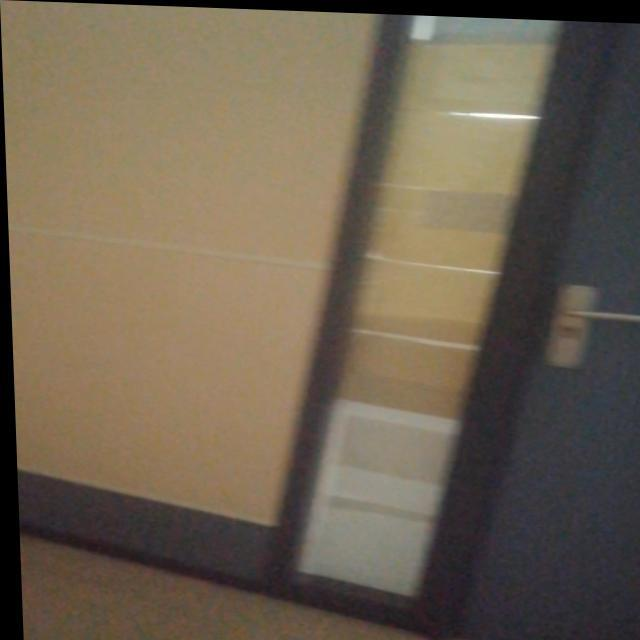door_handle: (552, 299, 640, 322)
